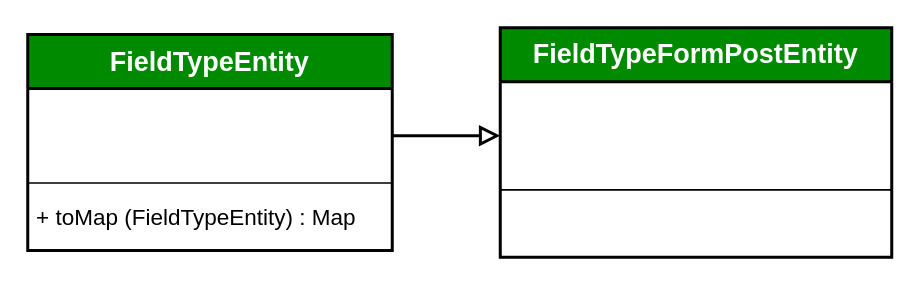
Some shapes in this 918 by 284 pixel diagram are drawn without their labels. Here are the shapes that lost their labels. From the top down, the centre of each, then its label:
At point (209, 135): "+ name: String + metaType: String".
At point (695, 135): "+ columns : List<ColumnGetEntity>".
